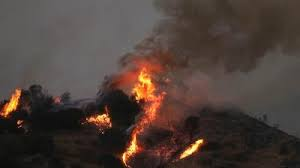smoke: (110, 1, 300, 65)
